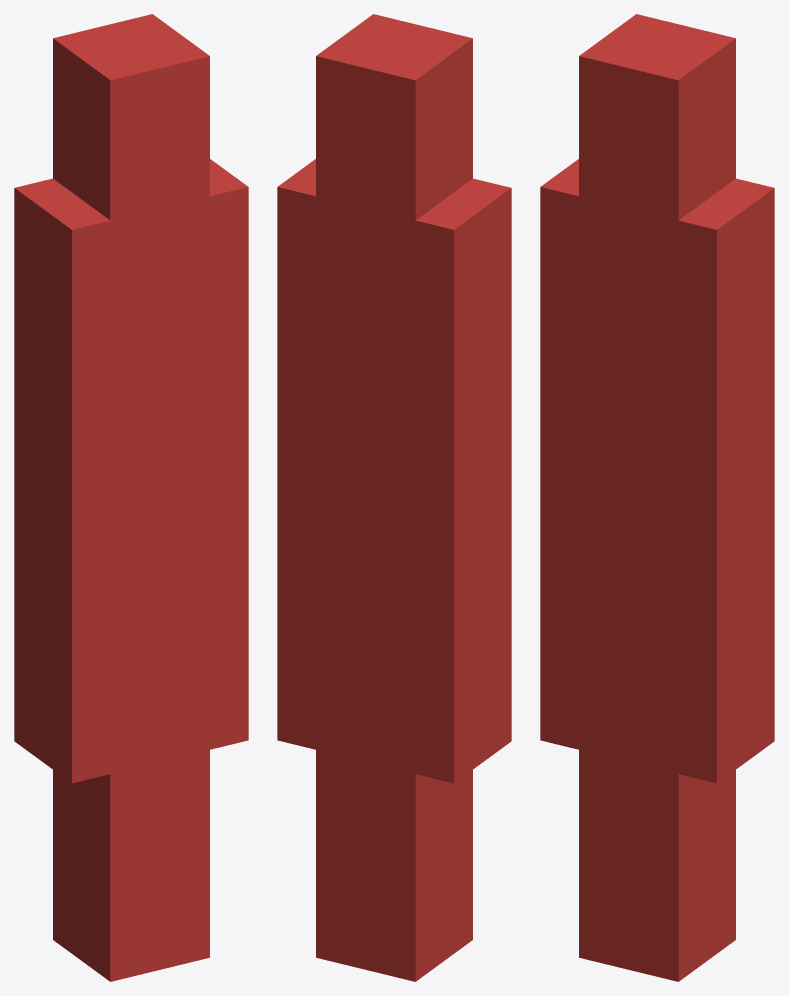
3 renders of one model, left to right at view 1: azimuth 30°, elevation 25°; view 2: azimuth 150°, elevation 25°; view 3: azimuth 330°, elevation 25°, orthographic.
Visible parts, largest first — view 1: Arm_link; view 2: Arm_link; view 3: Arm_link.
Boxes of the visible parts, bbox=[...] form: Arm_link: bbox=[14, 14, 248, 981]; Arm_link: bbox=[277, 14, 511, 981]; Arm_link: bbox=[540, 14, 774, 981].
Size of the model in its own units: 3.55 by 2 by 17.31.
